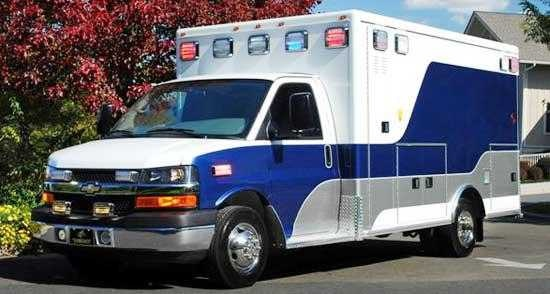Ambulance: (36, 14, 529, 282)
